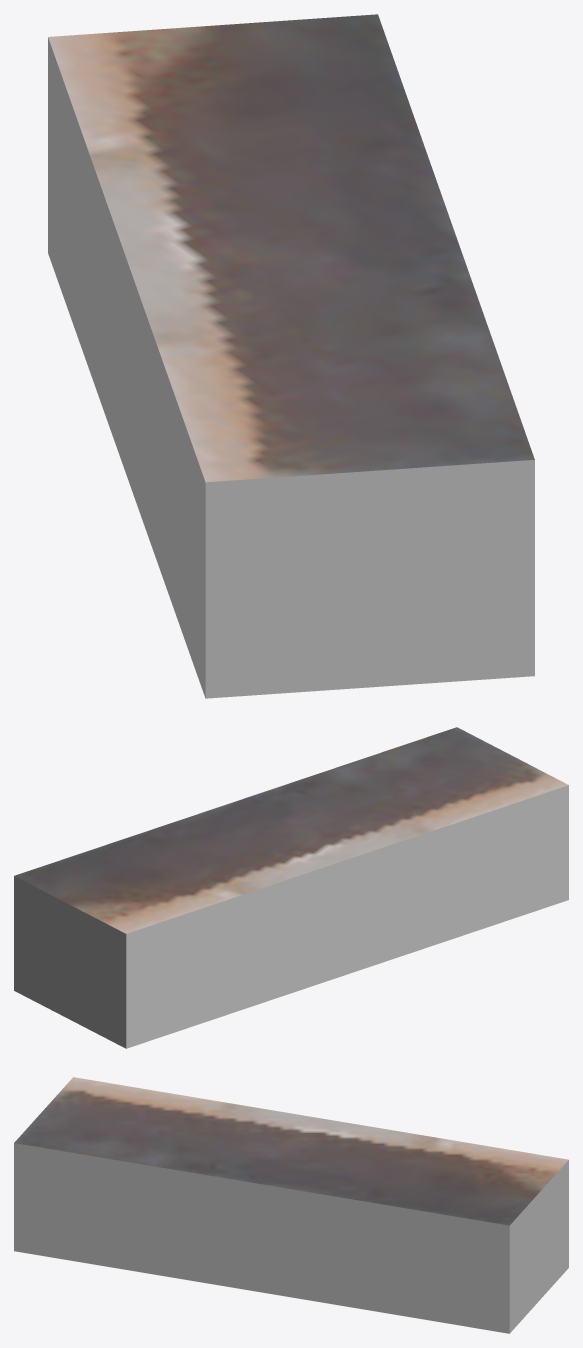
Rendered from DEBW_0010007THZ4.gltf.
3 renders of one model, top to bottom at view 1: azimuth 30°, elevation 25°; view 2: azimuth 150°, elevation 25°; view 3: azimuth 270°, elevation 25°, orthographic. The views are drawn at different scales.
Parts seen in each view (by area): view 1: Z_UP; view 2: Z_UP; view 3: Z_UP.
Part boxes in pixels (<box>): Z_UP: <box>48,14,534,698</box>; Z_UP: <box>14,727,568,1048</box>; Z_UP: <box>14,1077,568,1333</box>.
Size of the model in its own units: 10.73 by 3.64 by 16.94.
2 materials, 1 textured.
